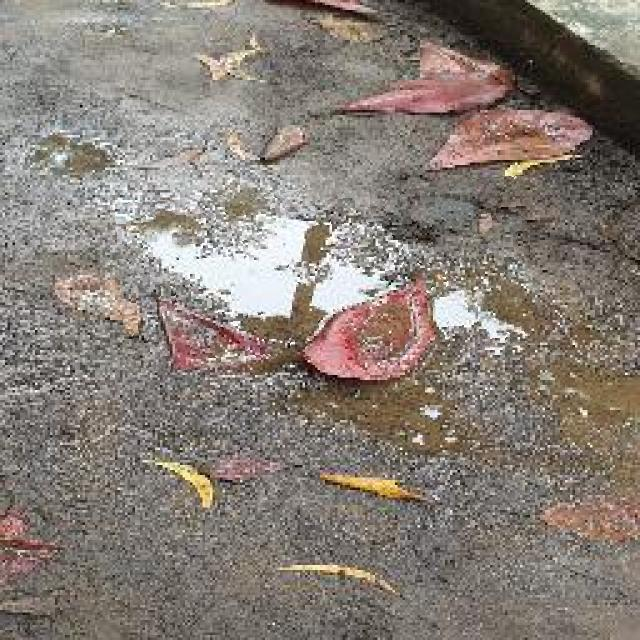puddle: (119, 183, 533, 367)
